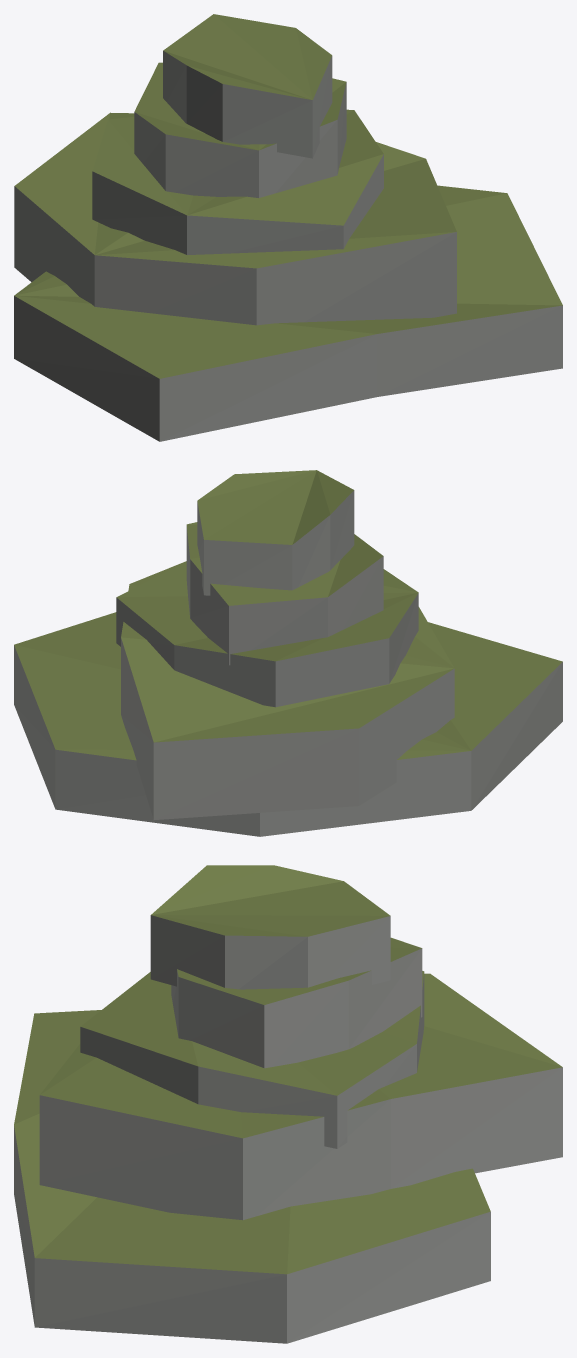
The model's file is rock.boulder__stacked__winter.glb.
The picture shows the model from 3 angles, top to bottom: view 1: azimuth 30°, elevation 25°; view 2: azimuth 150°, elevation 25°; view 3: azimuth 270°, elevation 25°; orthographic projection. The views are drawn at different scales.
Parts seen in each view (by area): view 1: rock.boulder; view 2: rock.boulder; view 3: rock.boulder.
Part boxes in pixels (x1=…): rock.boulder: x1=14, y1=14, x2=562, y2=441; rock.boulder: x1=14, y1=470, x2=562, y2=836; rock.boulder: x1=14, y1=865, x2=562, y2=1343.
Bounding box in the file's own units: 2.33 × 1.33 × 2.06.
